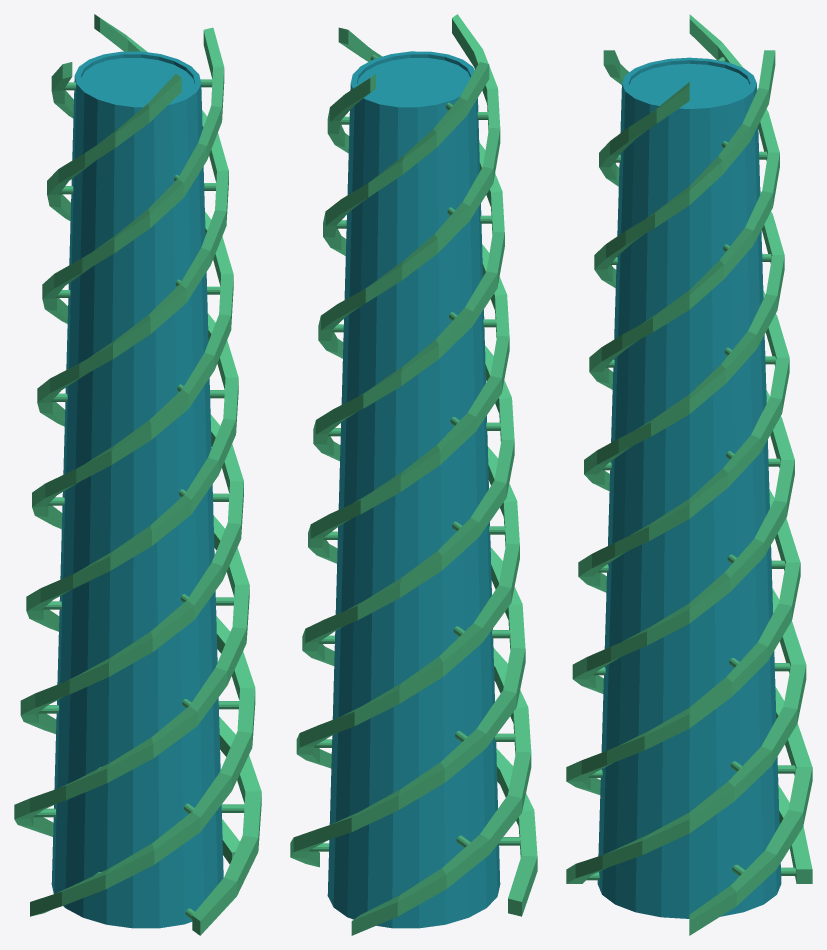
Rendered from Luxury_apartment_building.fbx.
3 views of the same model, side by side, from view 1: azimuth 30°, elevation 25°; view 2: azimuth 150°, elevation 25°; view 3: azimuth 270°, elevation 25° (orthographic).
Visible parts, largest first — view 1: Luxury_apartmnet_building; view 2: Luxury_apartmnet_building; view 3: Luxury_apartmnet_building.
Boxes of the visible parts, left/top/right/bottom form: Luxury_apartmnet_building: left=14, top=14, right=261, bottom=935; Luxury_apartmnet_building: left=290, top=14, right=537, bottom=935; Luxury_apartmnet_building: left=566, top=14, right=812, bottom=935.
Size of the model in its own units: 3072 by 11483 by 3072.
